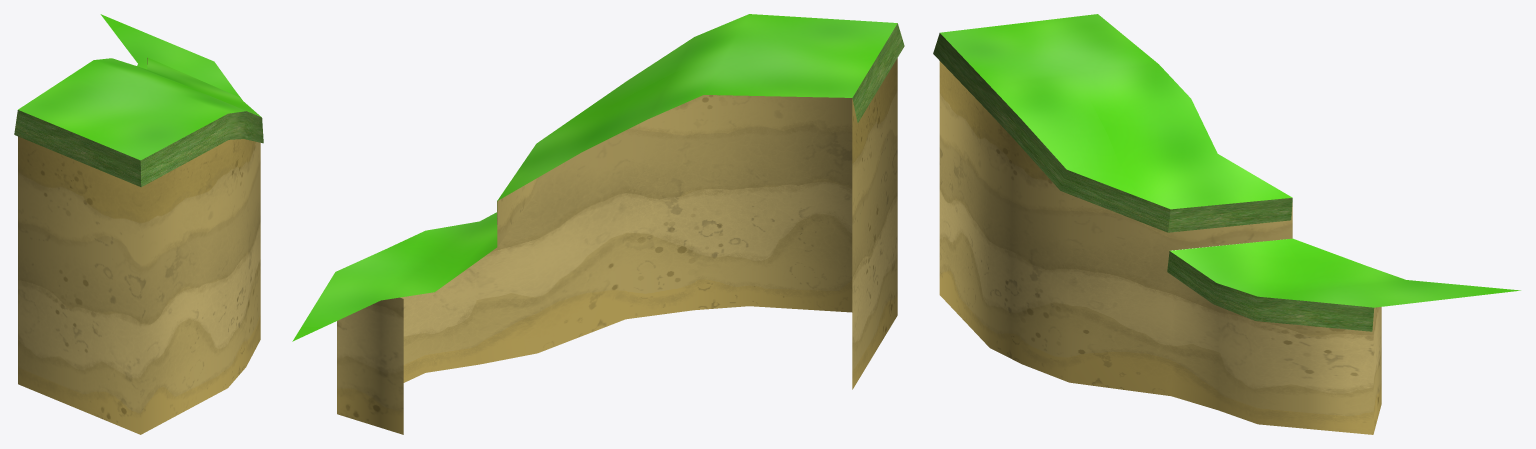
File: smal mesh.fbx
3 views of the same model, side by side, from view 1: azimuth 30°, elevation 25°; view 2: azimuth 150°, elevation 25°; view 3: azimuth 270°, elevation 25° (orthographic). The views are drawn at different scales.
Parts seen in each view (by area): view 1: polySurface145; view 2: polySurface145; view 3: polySurface145.
Boxes of the visible parts, left/top/right/bottom form: polySurface145: left=14, top=14, right=263, bottom=434; polySurface145: left=292, top=14, right=904, bottom=434; polySurface145: left=933, top=14, right=1520, bottom=434.
Bounding box in the file's own units: 0.2328 × 0.175 × 0.356.
